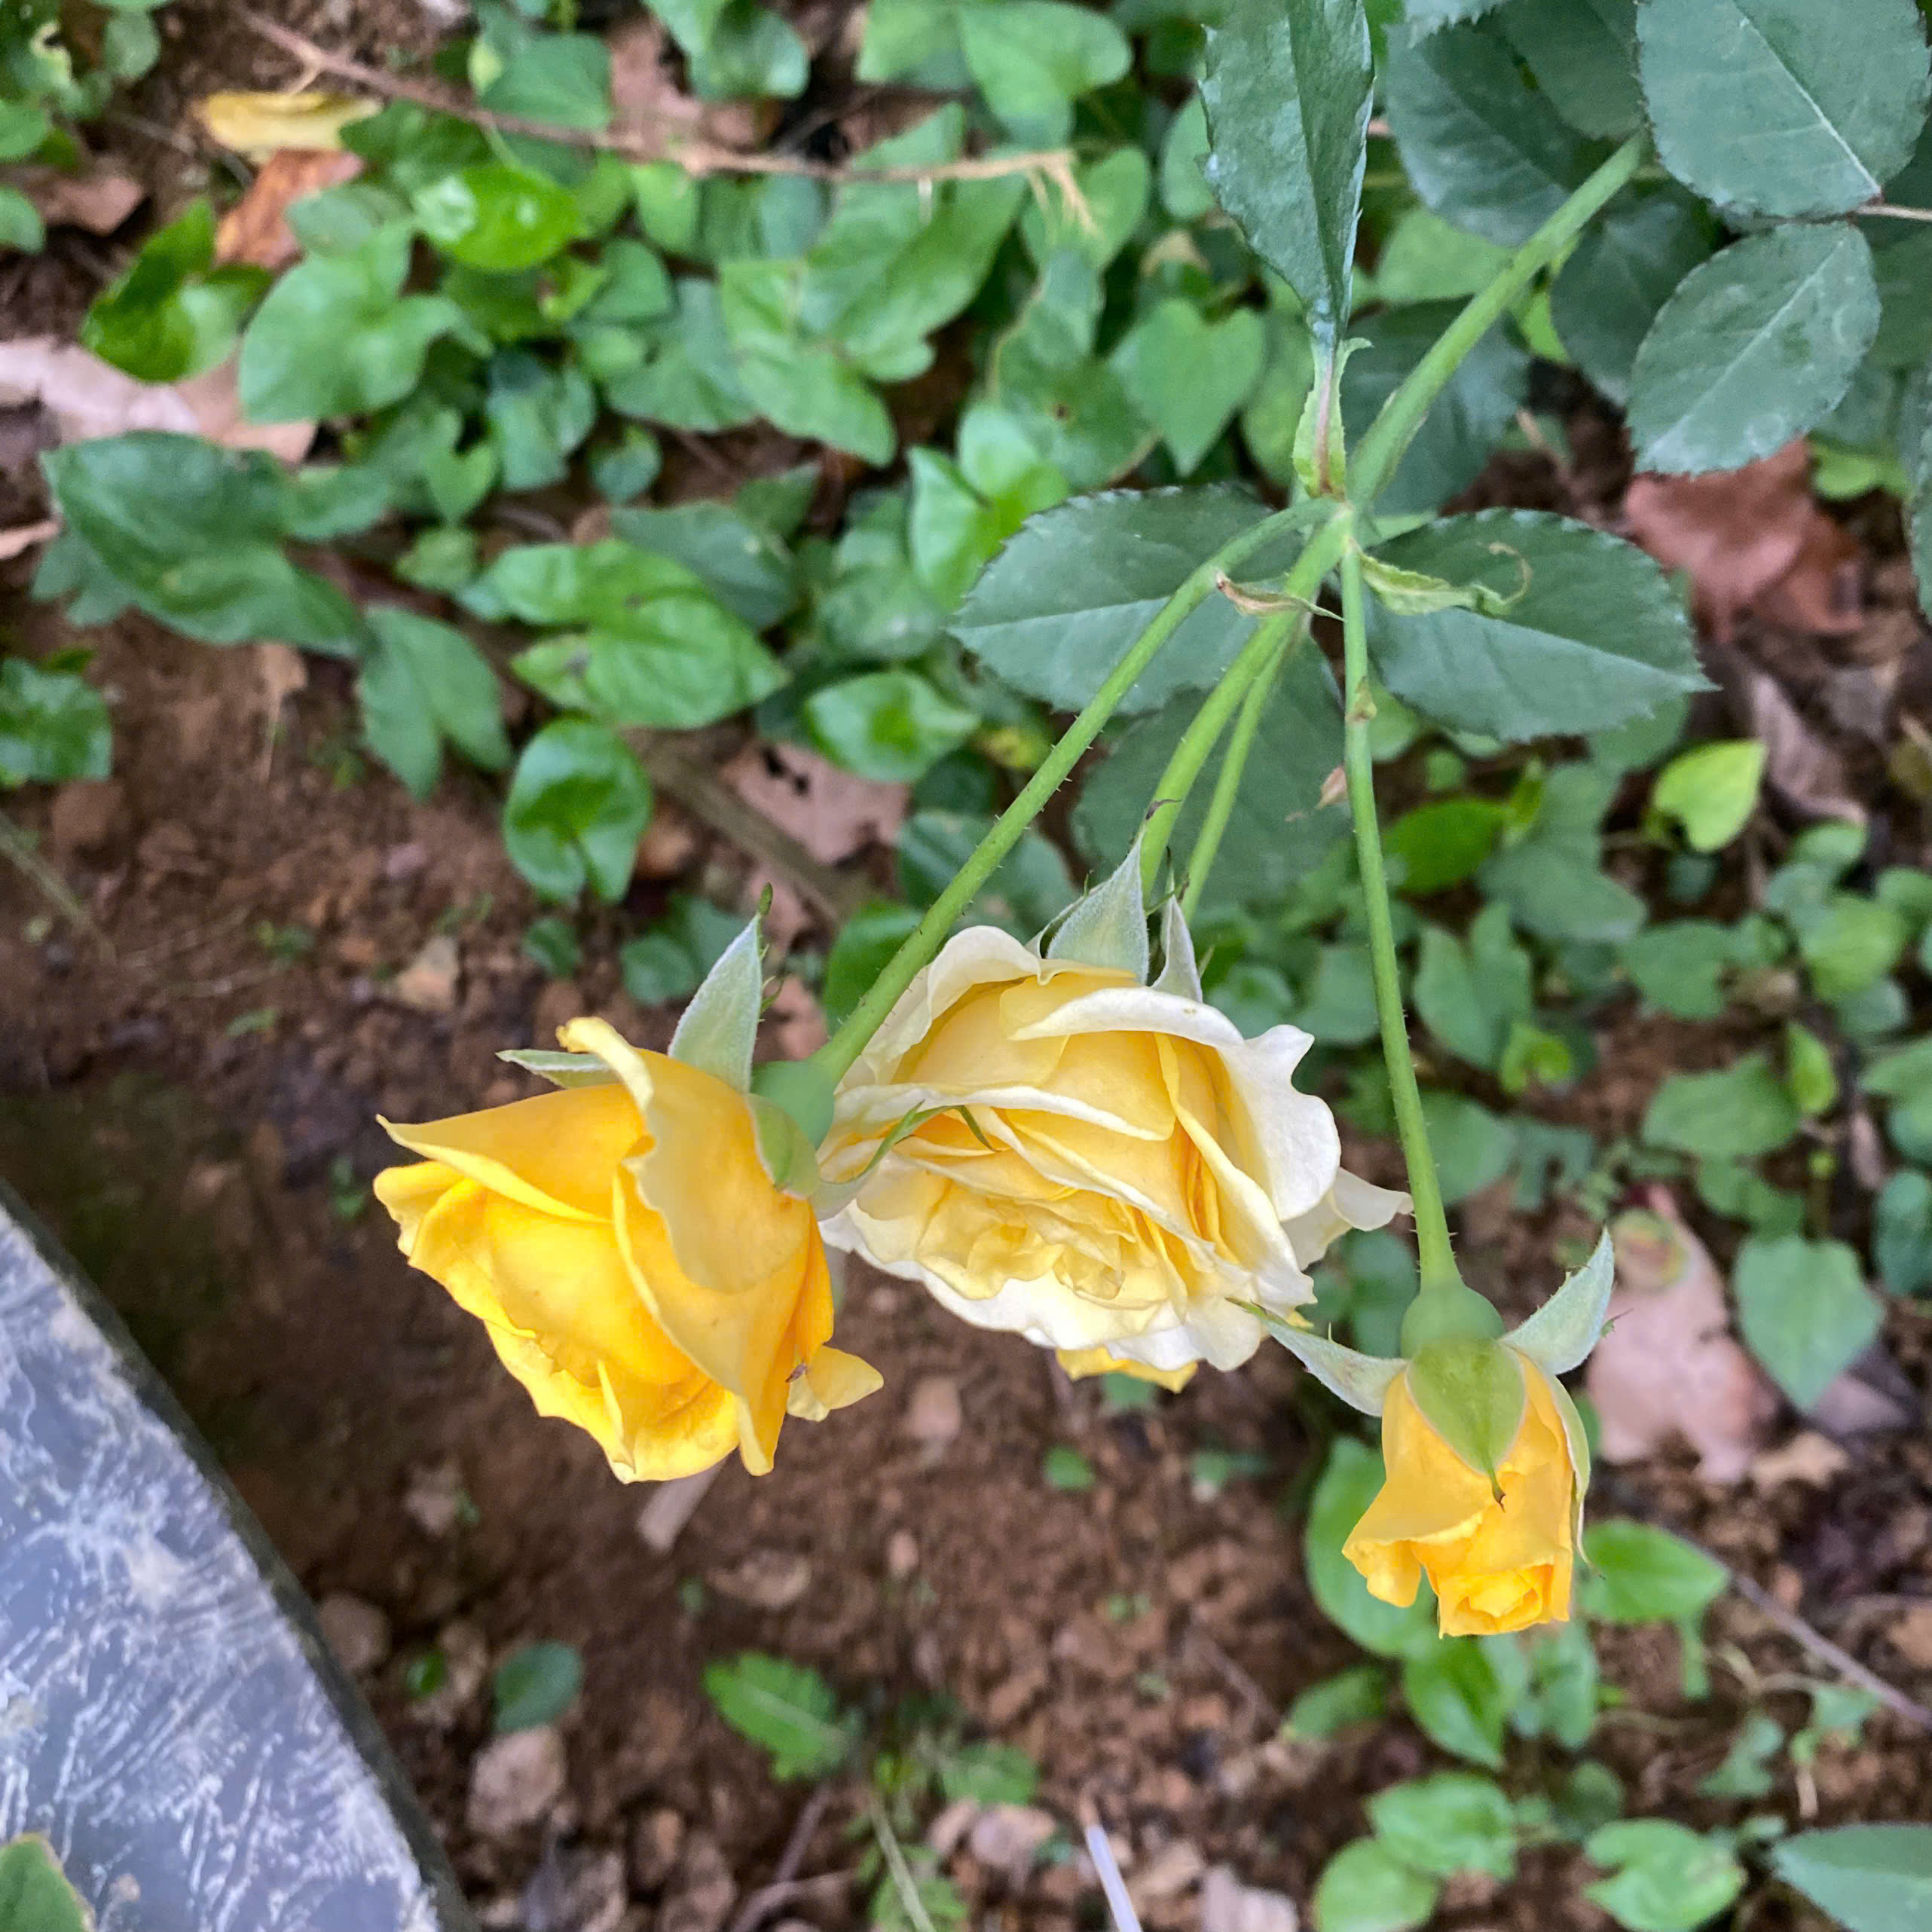hoa_thuoc_duoc: (343, 501, 1737, 1856)
